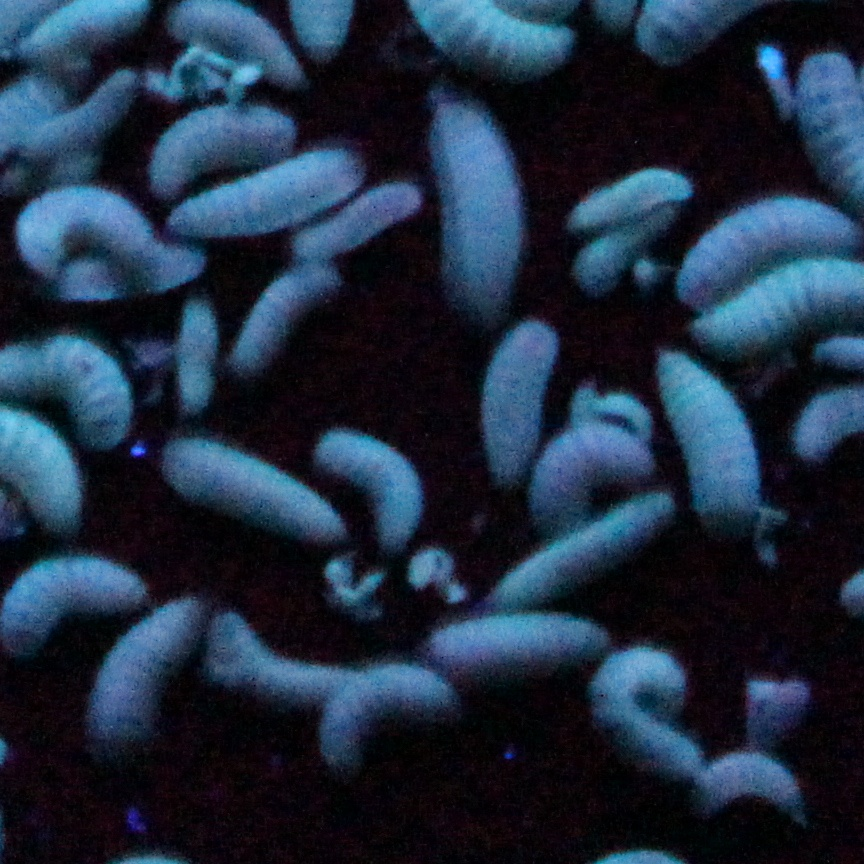larve: (644, 340, 765, 526), (426, 99, 517, 311), (160, 444, 344, 547), (676, 198, 858, 299), (480, 499, 663, 598), (170, 148, 360, 230), (4, 185, 153, 281), (89, 604, 189, 740), (326, 663, 452, 768), (593, 648, 694, 776), (206, 608, 340, 699), (537, 422, 648, 530), (3, 558, 137, 644), (152, 111, 286, 193), (430, 611, 603, 673), (327, 429, 412, 555), (486, 322, 552, 471), (570, 203, 675, 294), (45, 245, 204, 303), (237, 271, 326, 370), (296, 186, 421, 253), (19, 78, 129, 142), (573, 173, 689, 227), (691, 748, 798, 806), (171, 304, 219, 408)
